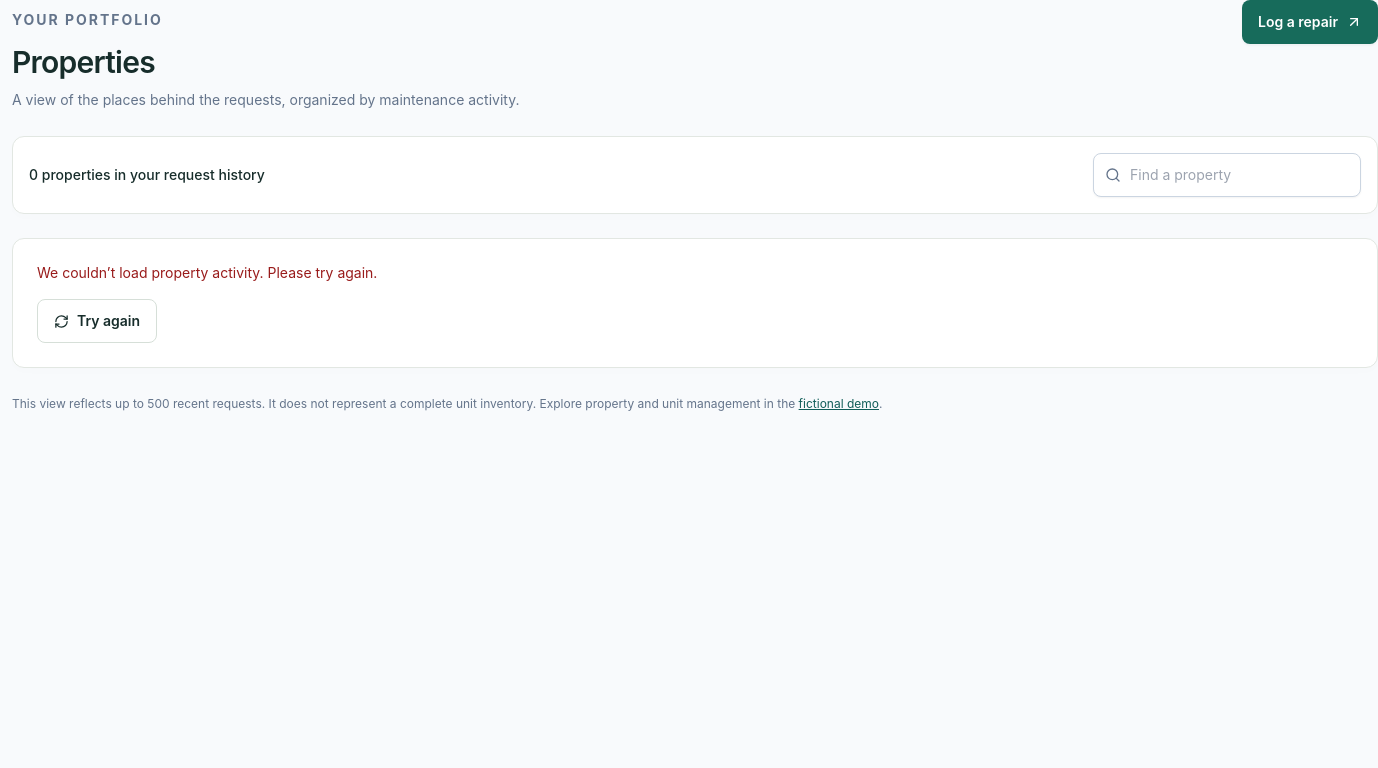
Scenario: property failures show retry instead of fictional customer records
Expected: the message shows "couldn’t load property activity", [37,264,377,281]
Click the button "Try again": point(97, 321) [37,299,157,343]
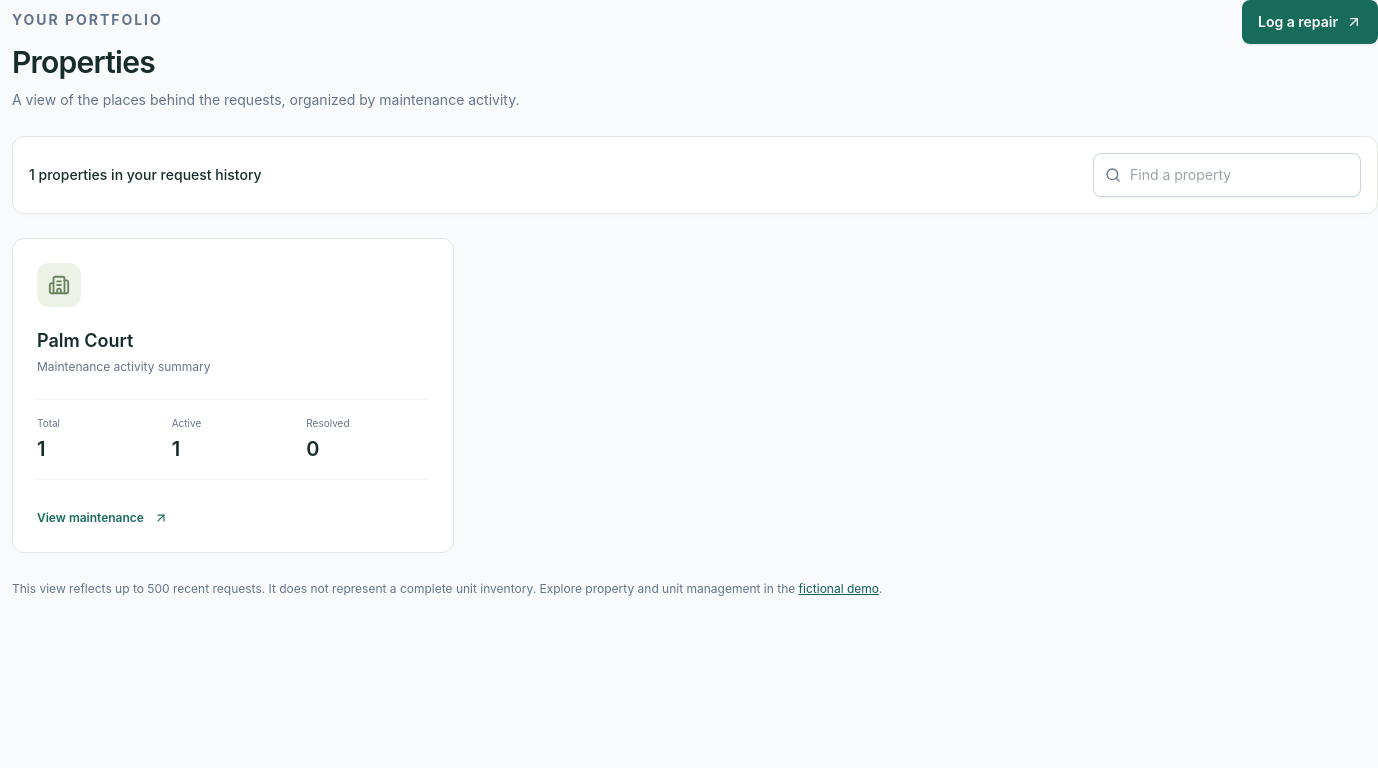
Expected: the heading "Palm Court" is shown, [37,330,133,351]
